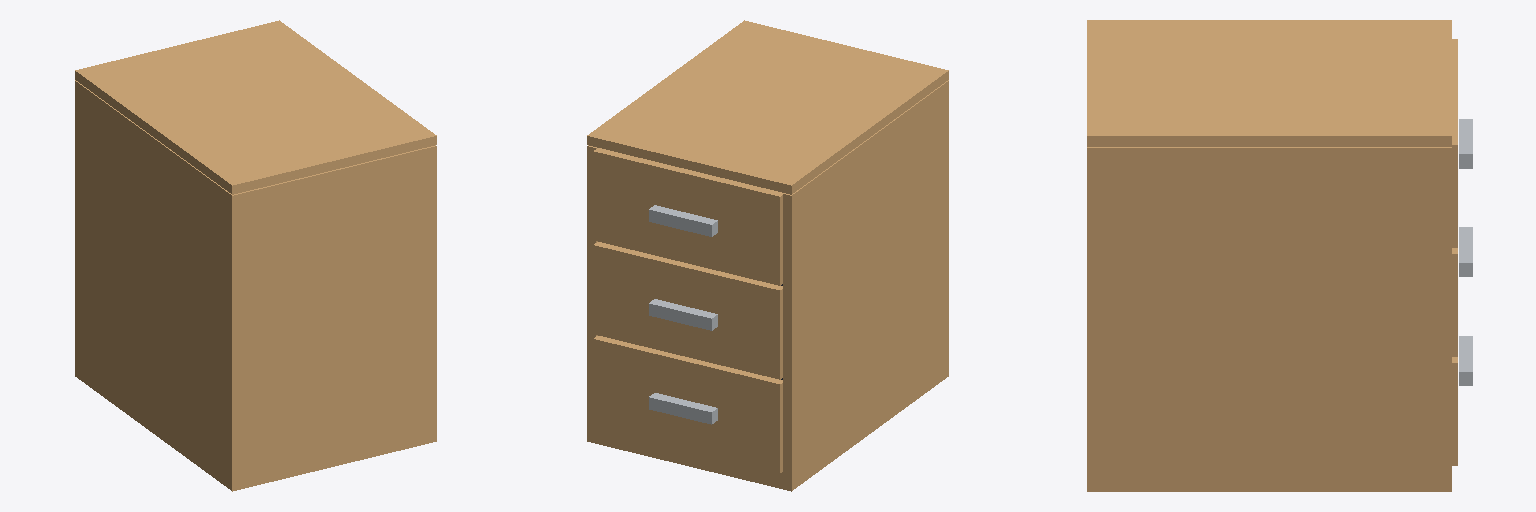
robot.urdf — office_pedestal:
<?xml version="1.0"?>
<robot name="office_pedestal">
  <!-- Materials -->
  <material name="beech">
    <color rgba="0.87 0.71 0.51 1.0"/>
  </material>
  <material name="dark_box">
    <color rgba="0.15 0.16 0.18 1.0"/>
  </material>
  <material name="silver">
    <color rgba="0.78 0.80 0.82 1.0"/>
  </material>

  <!-- BASE / CARCASS - origin at floor centre under cabinet, Z up, Y forward -->
  <link name="base_link">
    <inertial>
      <origin xyz="0 0 0.30" rpy="0 0 0"/>
      <mass value="14.0"/>
      <inertia ixx="0.9" ixy="0" ixz="0" iyy="0.9" iyz="0" izz="0.7"/>
    </inertial>
    <!-- top -->
    <visual>
      <origin xyz="0 0 0.591" rpy="0 0 0"/>
      <geometry>
        <box size="0.42 0.56 0.018"/>
      </geometry>
      <material name="beech"/>
    </visual>
    <collision>
      <origin xyz="0 0 0.591" rpy="0 0 0"/>
      <geometry>
        <box size="0.42 0.56 0.018"/>
      </geometry>
    </collision>
    <!-- bottom / plinth -->
    <visual>
      <origin xyz="0 0 0.02" rpy="0 0 0"/>
      <geometry>
        <box size="0.42 0.56 0.04"/>
      </geometry>
      <material name="beech"/>
    </visual>
    <collision>
      <origin xyz="0 0 0.02" rpy="0 0 0"/>
      <geometry>
        <box size="0.42 0.56 0.04"/>
      </geometry>
    </collision>
    <!-- left side -->
    <visual>
      <origin xyz="-0.201 0 0.31" rpy="0 0 0"/>
      <geometry>
        <box size="0.018 0.56 0.54"/>
      </geometry>
      <material name="beech"/>
    </visual>
    <collision>
      <origin xyz="-0.201 0 0.31" rpy="0 0 0"/>
      <geometry>
        <box size="0.018 0.56 0.54"/>
      </geometry>
    </collision>
    <!-- right side -->
    <visual>
      <origin xyz="0.201 0 0.31" rpy="0 0 0"/>
      <geometry>
        <box size="0.018 0.56 0.54"/>
      </geometry>
      <material name="beech"/>
    </visual>
    <collision>
      <origin xyz="0.201 0 0.31" rpy="0 0 0"/>
      <geometry>
        <box size="0.018 0.56 0.54"/>
      </geometry>
    </collision>
    <!-- back -->
    <visual>
      <origin xyz="0 -0.271 0.31" rpy="0 0 0"/>
      <geometry>
        <box size="0.42 0.018 0.54"/>
      </geometry>
      <material name="beech"/>
    </visual>
    <collision>
      <origin xyz="0 -0.271 0.31" rpy="0 0 0"/>
      <geometry>
        <box size="0.42 0.018 0.54"/>
      </geometry>
    </collision>
  </link>

  <!-- BOTTOM DRAWER -->
  <link name="drawer_bottom">
    <inertial>
      <origin xyz="0 -0.24 -0.01" rpy="0 0 0"/>
      <mass value="2.0"/>
      <inertia ixx="0.02" ixy="0" ixz="0" iyy="0.04" iyz="0" izz="0.03"/>
    </inertial>
    <!-- front panel -->
    <visual>
      <origin xyz="0 0 0" rpy="0 0 0"/>
      <geometry>
        <box size="0.384 0.018 0.175"/>
      </geometry>
      <material name="beech"/>
    </visual>
    <collision>
      <origin xyz="0 0 0" rpy="0 0 0"/>
      <geometry>
        <box size="0.384 0.018 0.175"/>
      </geometry>
    </collision>
    <!-- box -->
    <visual>
      <origin xyz="0 -0.239 -0.012" rpy="0 0 0"/>
      <geometry>
        <box size="0.36 0.46 0.13"/>
      </geometry>
      <material name="dark_box"/>
    </visual>
    <collision>
      <origin xyz="0 -0.239 -0.012" rpy="0 0 0"/>
      <geometry>
        <box size="0.36 0.46 0.13"/>
      </geometry>
    </collision>
    <!-- handle - horizontal bar -->
    <visual>
      <origin xyz="0 0.021 0" rpy="0 0 0"/>
      <geometry>
        <box size="0.13 0.022 0.024"/>
      </geometry>
      <material name="silver"/>
    </visual>
  </link>

  <!-- MIDDLE DRAWER -->
  <link name="drawer_middle">
    <inertial>
      <origin xyz="0 -0.24 -0.01" rpy="0 0 0"/>
      <mass value="2.0"/>
      <inertia ixx="0.02" ixy="0" ixz="0" iyy="0.04" iyz="0" izz="0.03"/>
    </inertial>
    <visual>
      <origin xyz="0 0 0" rpy="0 0 0"/>
      <geometry>
        <box size="0.384 0.018 0.175"/>
      </geometry>
      <material name="beech"/>
    </visual>
    <collision>
      <origin xyz="0 0 0" rpy="0 0 0"/>
      <geometry>
        <box size="0.384 0.018 0.175"/>
      </geometry>
    </collision>
    <visual>
      <origin xyz="0 -0.239 -0.012" rpy="0 0 0"/>
      <geometry>
        <box size="0.36 0.46 0.13"/>
      </geometry>
      <material name="dark_box"/>
    </visual>
    <collision>
      <origin xyz="0 -0.239 -0.012" rpy="0 0 0"/>
      <geometry>
        <box size="0.36 0.46 0.13"/>
      </geometry>
    </collision>
    <visual>
      <origin xyz="0 0.021 0" rpy="0 0 0"/>
      <geometry>
        <box size="0.13 0.022 0.024"/>
      </geometry>
      <material name="silver"/>
    </visual>
  </link>

  <!-- TOP DRAWER -->
  <link name="drawer_top">
    <inertial>
      <origin xyz="0 -0.24 -0.01" rpy="0 0 0"/>
      <mass value="2.0"/>
      <inertia ixx="0.02" ixy="0" ixz="0" iyy="0.04" iyz="0" izz="0.03"/>
    </inertial>
    <visual>
      <origin xyz="0 0 0" rpy="0 0 0"/>
      <geometry>
        <box size="0.384 0.018 0.175"/>
      </geometry>
      <material name="beech"/>
    </visual>
    <collision>
      <origin xyz="0 0 0" rpy="0 0 0"/>
      <geometry>
        <box size="0.384 0.018 0.175"/>
      </geometry>
    </collision>
    <visual>
      <origin xyz="0 -0.239 -0.012" rpy="0 0 0"/>
      <geometry>
        <box size="0.36 0.46 0.13"/>
      </geometry>
      <material name="dark_box"/>
    </visual>
    <collision>
      <origin xyz="0 -0.239 -0.012" rpy="0 0 0"/>
      <geometry>
        <box size="0.36 0.46 0.13"/>
      </geometry>
    </collision>
    <visual>
      <origin xyz="0 0.021 0" rpy="0 0 0"/>
      <geometry>
        <box size="0.13 0.022 0.024"/>
      </geometry>
      <material name="silver"/>
    </visual>
  </link>

  <!-- PRISMATIC JOINTS - slide forward +Y -->
  <joint name="joint_bottom" type="prismatic">
    <parent link="base_link"/>
    <child link="drawer_bottom"/>
    <origin xyz="0 0.28 0.122" rpy="0 0 0"/>
    <axis xyz="0 1 0"/>
    <limit lower="0" upper="0.38" effort="30" velocity="1.0"/>
    <dynamics damping="5.0" friction="2.0"/>
  </joint>

  <joint name="joint_middle" type="prismatic">
    <parent link="base_link"/>
    <child link="drawer_middle"/>
    <origin xyz="0 0.28 0.306" rpy="0 0 0"/>
    <axis xyz="0 1 0"/>
    <limit lower="0" upper="0.38" effort="30" velocity="1.0"/>
    <dynamics damping="5.0" friction="2.0"/>
  </joint>

  <joint name="joint_top" type="prismatic">
    <parent link="base_link"/>
    <child link="drawer_top"/>
    <origin xyz="0 0.28 0.49" rpy="0 0 0"/>
    <axis xyz="0 1 0"/>
    <limit lower="0" upper="0.38" effort="30" velocity="1.0"/>
    <dynamics damping="5.0" friction="2.0"/>
  </joint>

</robot>

--- Render facts (derived) ---
Views: 3 orthographic renders of the robot side by side, from view 1: azimuth 30°, elevation 25°; view 2: azimuth 150°, elevation 25°; view 3: azimuth 270°, elevation 25°.
Robot: office_pedestal — 4 links, 3 joints (3 prismatic); root link base_link; default pose: every joint at zero.
Links seen in each view (by area): view 1: base_link; view 2: base_link, drawer_top, drawer_bottom, drawer_middle; view 3: base_link, drawer_top, drawer_bottom, drawer_middle.
Link boxes in pixels (box(x1,y1,x2,y2)): base_link: box(75, 20, 436, 491); base_link: box(587, 20, 948, 491); drawer_top: box(593, 148, 782, 285); drawer_bottom: box(593, 336, 782, 472); drawer_middle: box(593, 242, 782, 379); base_link: box(1087, 20, 1451, 491); drawer_top: box(1452, 39, 1472, 247); drawer_bottom: box(1452, 336, 1472, 465); drawer_middle: box(1452, 227, 1472, 356).
Size in the robot's own frame: 0.42 by 0.592 by 0.6 metres.
Geometry: primitives only (box / cylinder / sphere), no mesh files.
